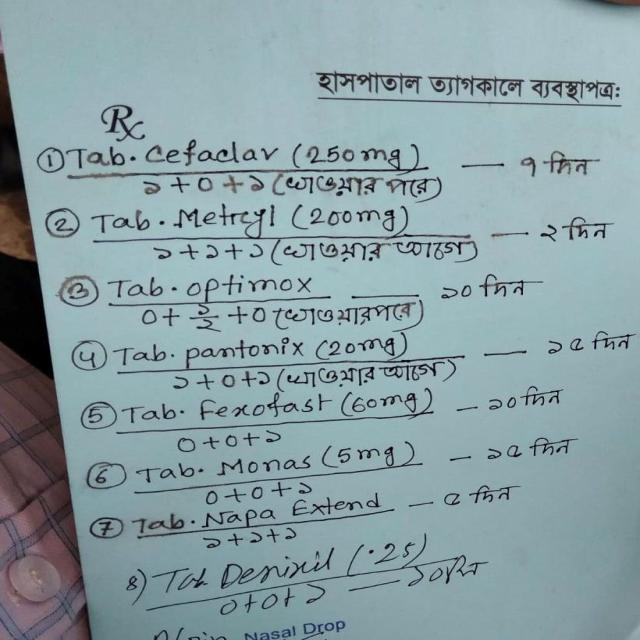Cefaclav: (145, 128, 284, 172)
Denixil: (208, 549, 343, 585)
Fexofast: (188, 392, 330, 423)
Metryl: (176, 199, 288, 235)
Monas: (208, 454, 317, 479)
Napa Extend: (193, 495, 386, 526)
Optimox: (186, 271, 318, 300)
Pantonix: (177, 338, 311, 365)
